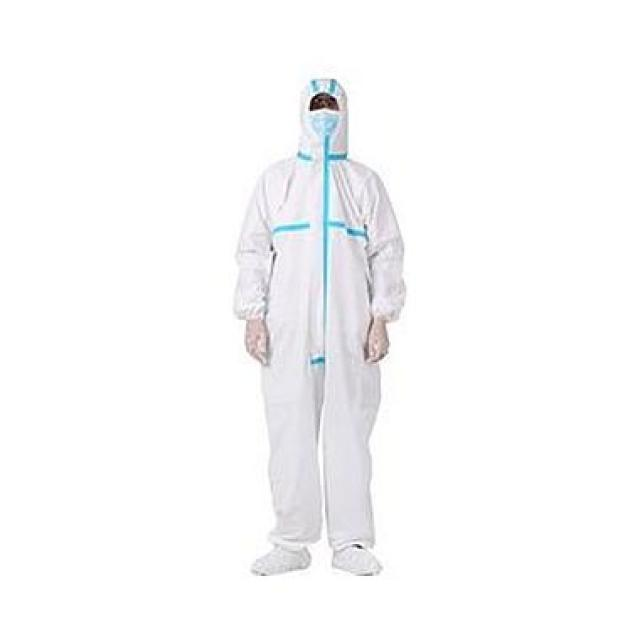Coverall: (197, 39, 478, 595)
Mask: (300, 108, 347, 140)
